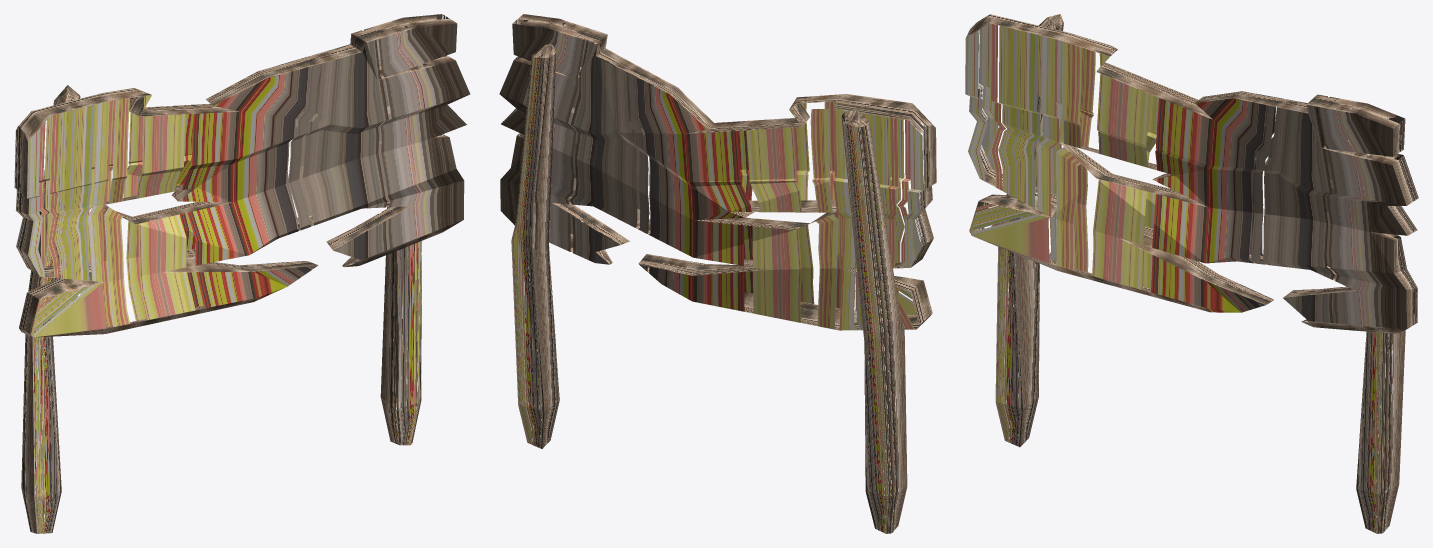
The picture shows the model from 3 angles, left to right: view 1: azimuth 30°, elevation 25°; view 2: azimuth 150°, elevation 25°; view 3: azimuth 330°, elevation 25°; orthographic projection. The views are drawn at different scales.
Visible parts, largest first — view 1: SM_Wooden_Fence_01v5_LOD0; view 2: SM_Wooden_Fence_01v5_LOD0; view 3: SM_Wooden_Fence_01v5_LOD0.
Boxes of the visible parts, x1=… form: SM_Wooden_Fence_01v5_LOD0: x1=14, y1=14, x2=470, y2=533; SM_Wooden_Fence_01v5_LOD0: x1=499, y1=14, x2=936, y2=533; SM_Wooden_Fence_01v5_LOD0: x1=965, y1=14, x2=1418, y2=533.
Bounding box in the file's own units: 1.94 × 1.8 × 0.2476.
